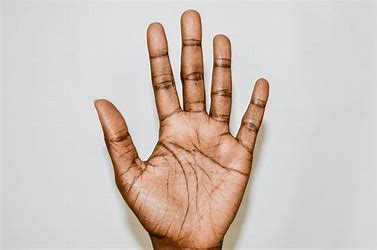palm: (94, 9, 270, 250)
